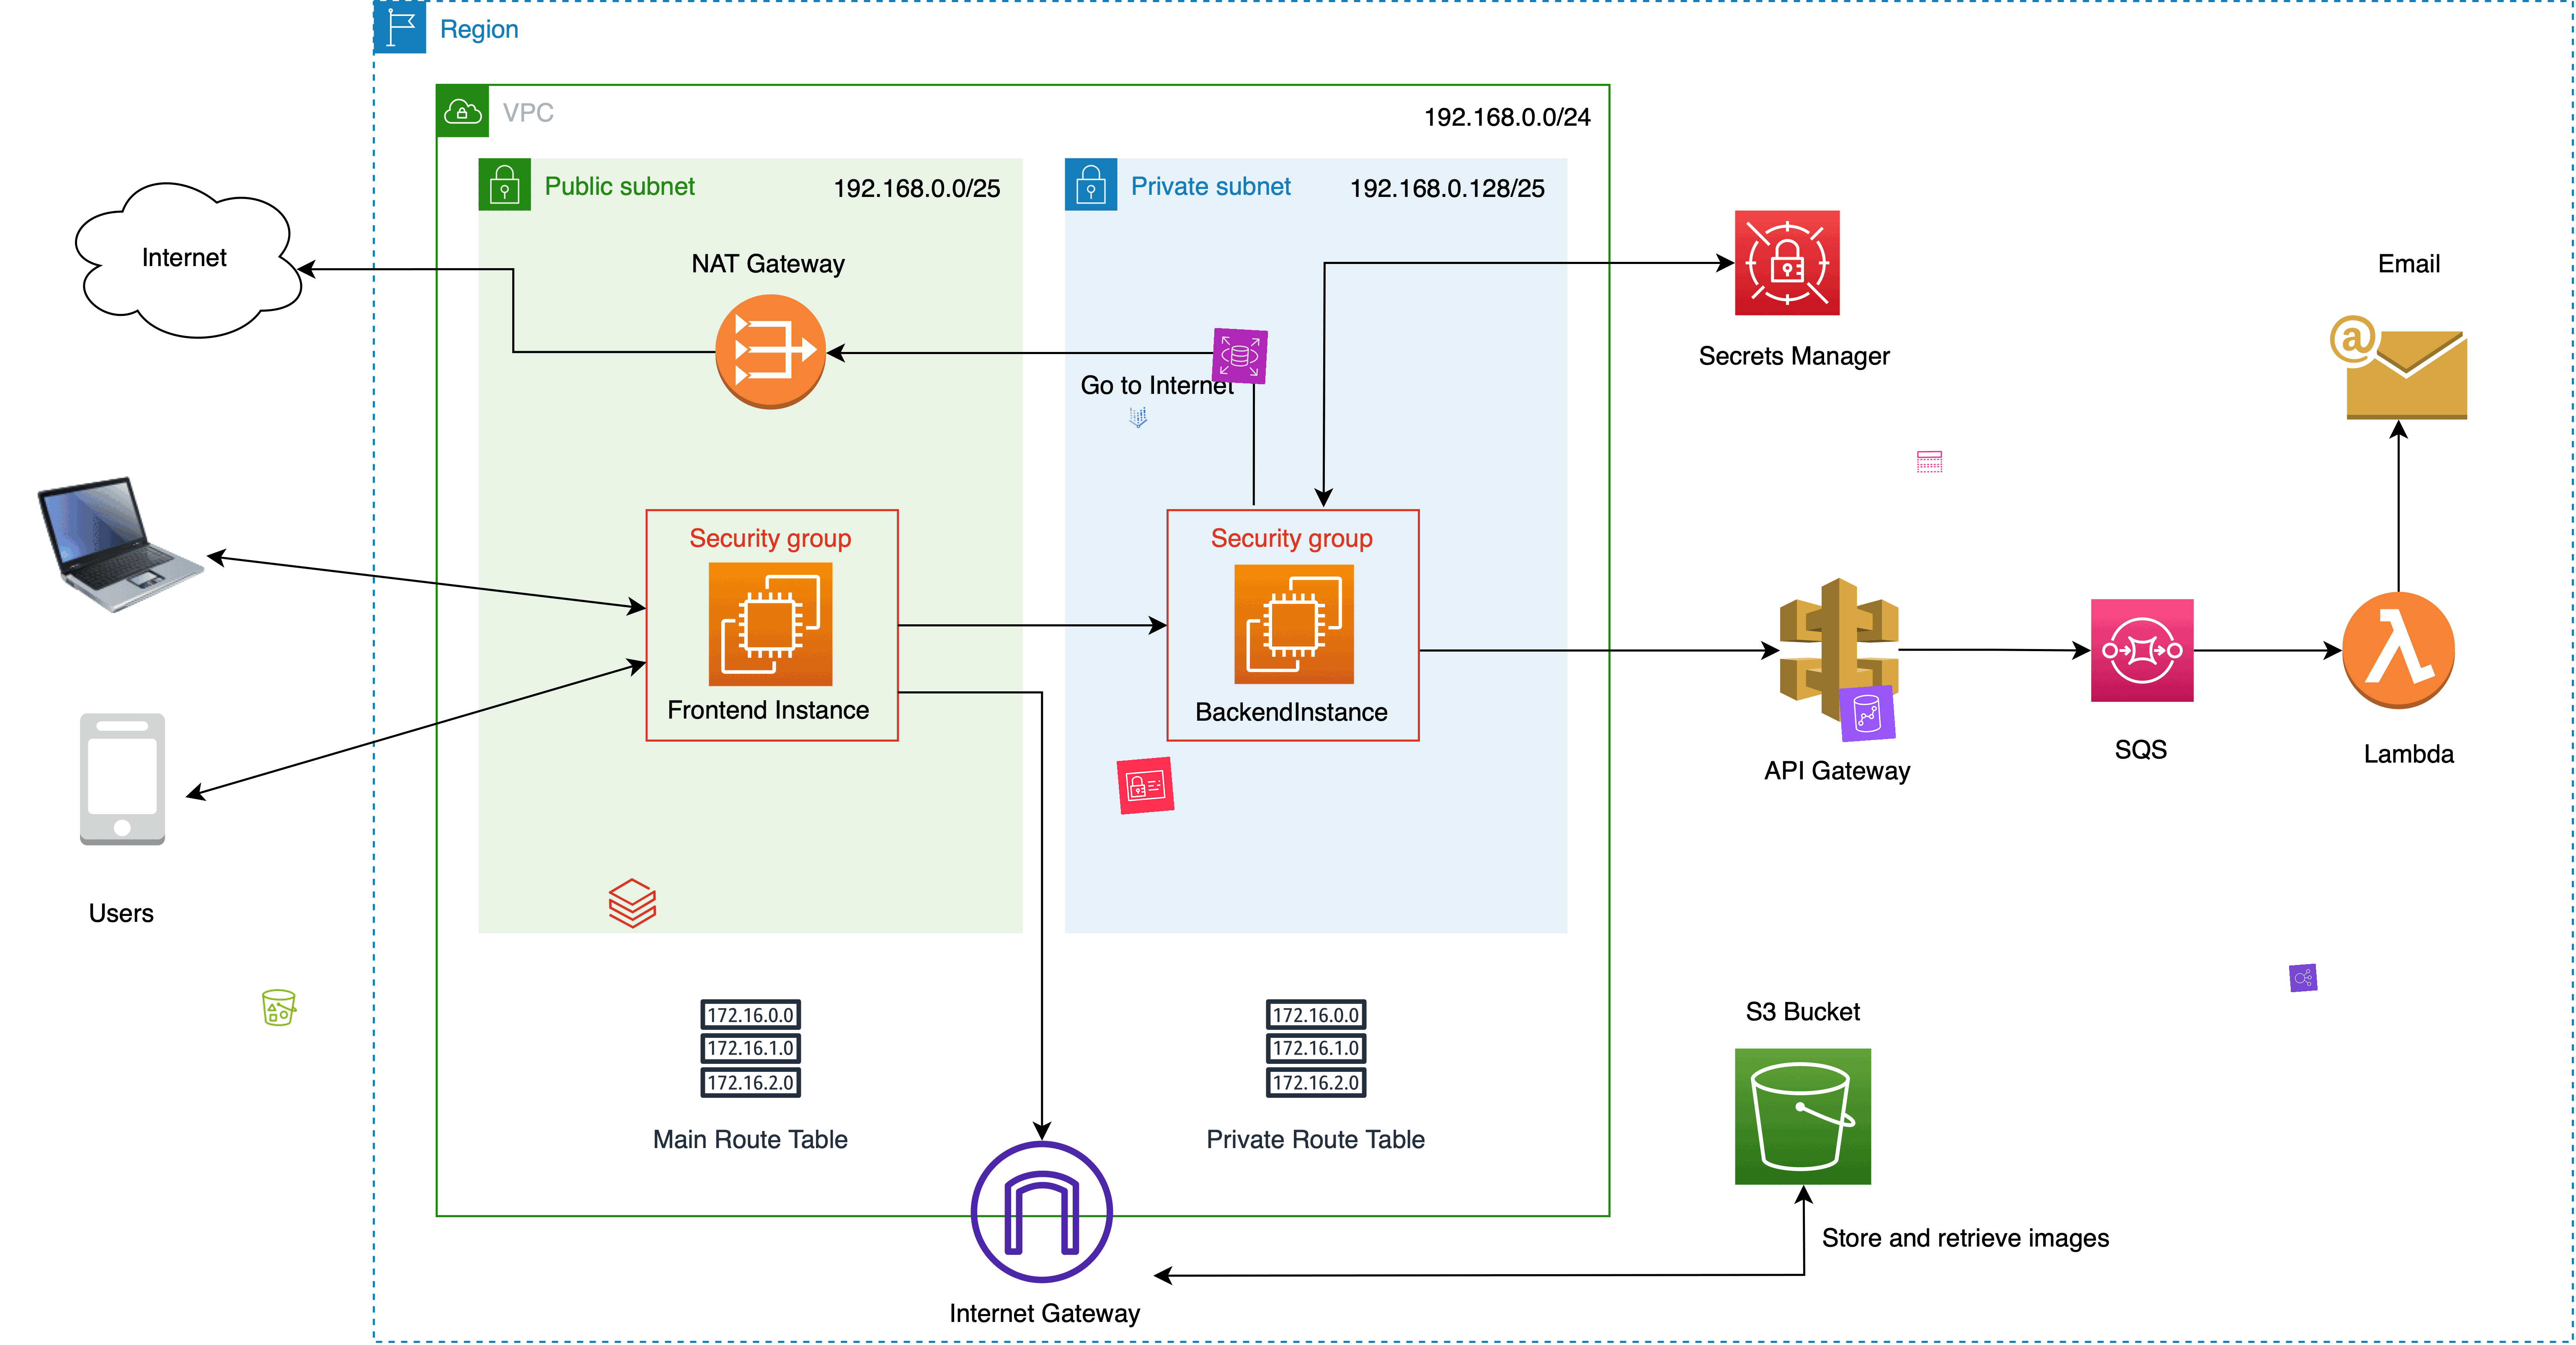aws_amazon_rds: (1211, 327, 1268, 385)
aws_amazon_redshift: (1838, 685, 1896, 743)
aws_elastic_load_balancing: (2288, 963, 2319, 992)
aws_identity_and_access_management: (1116, 757, 1176, 815)
aws_simple_notification_service_topic: (1917, 448, 1944, 476)
aws_simple_storage_service_bucket_with_objects: (259, 987, 300, 1028)
azure_databricks: (605, 876, 659, 931)
gcp_vertex_ai: (1124, 404, 1152, 431)
